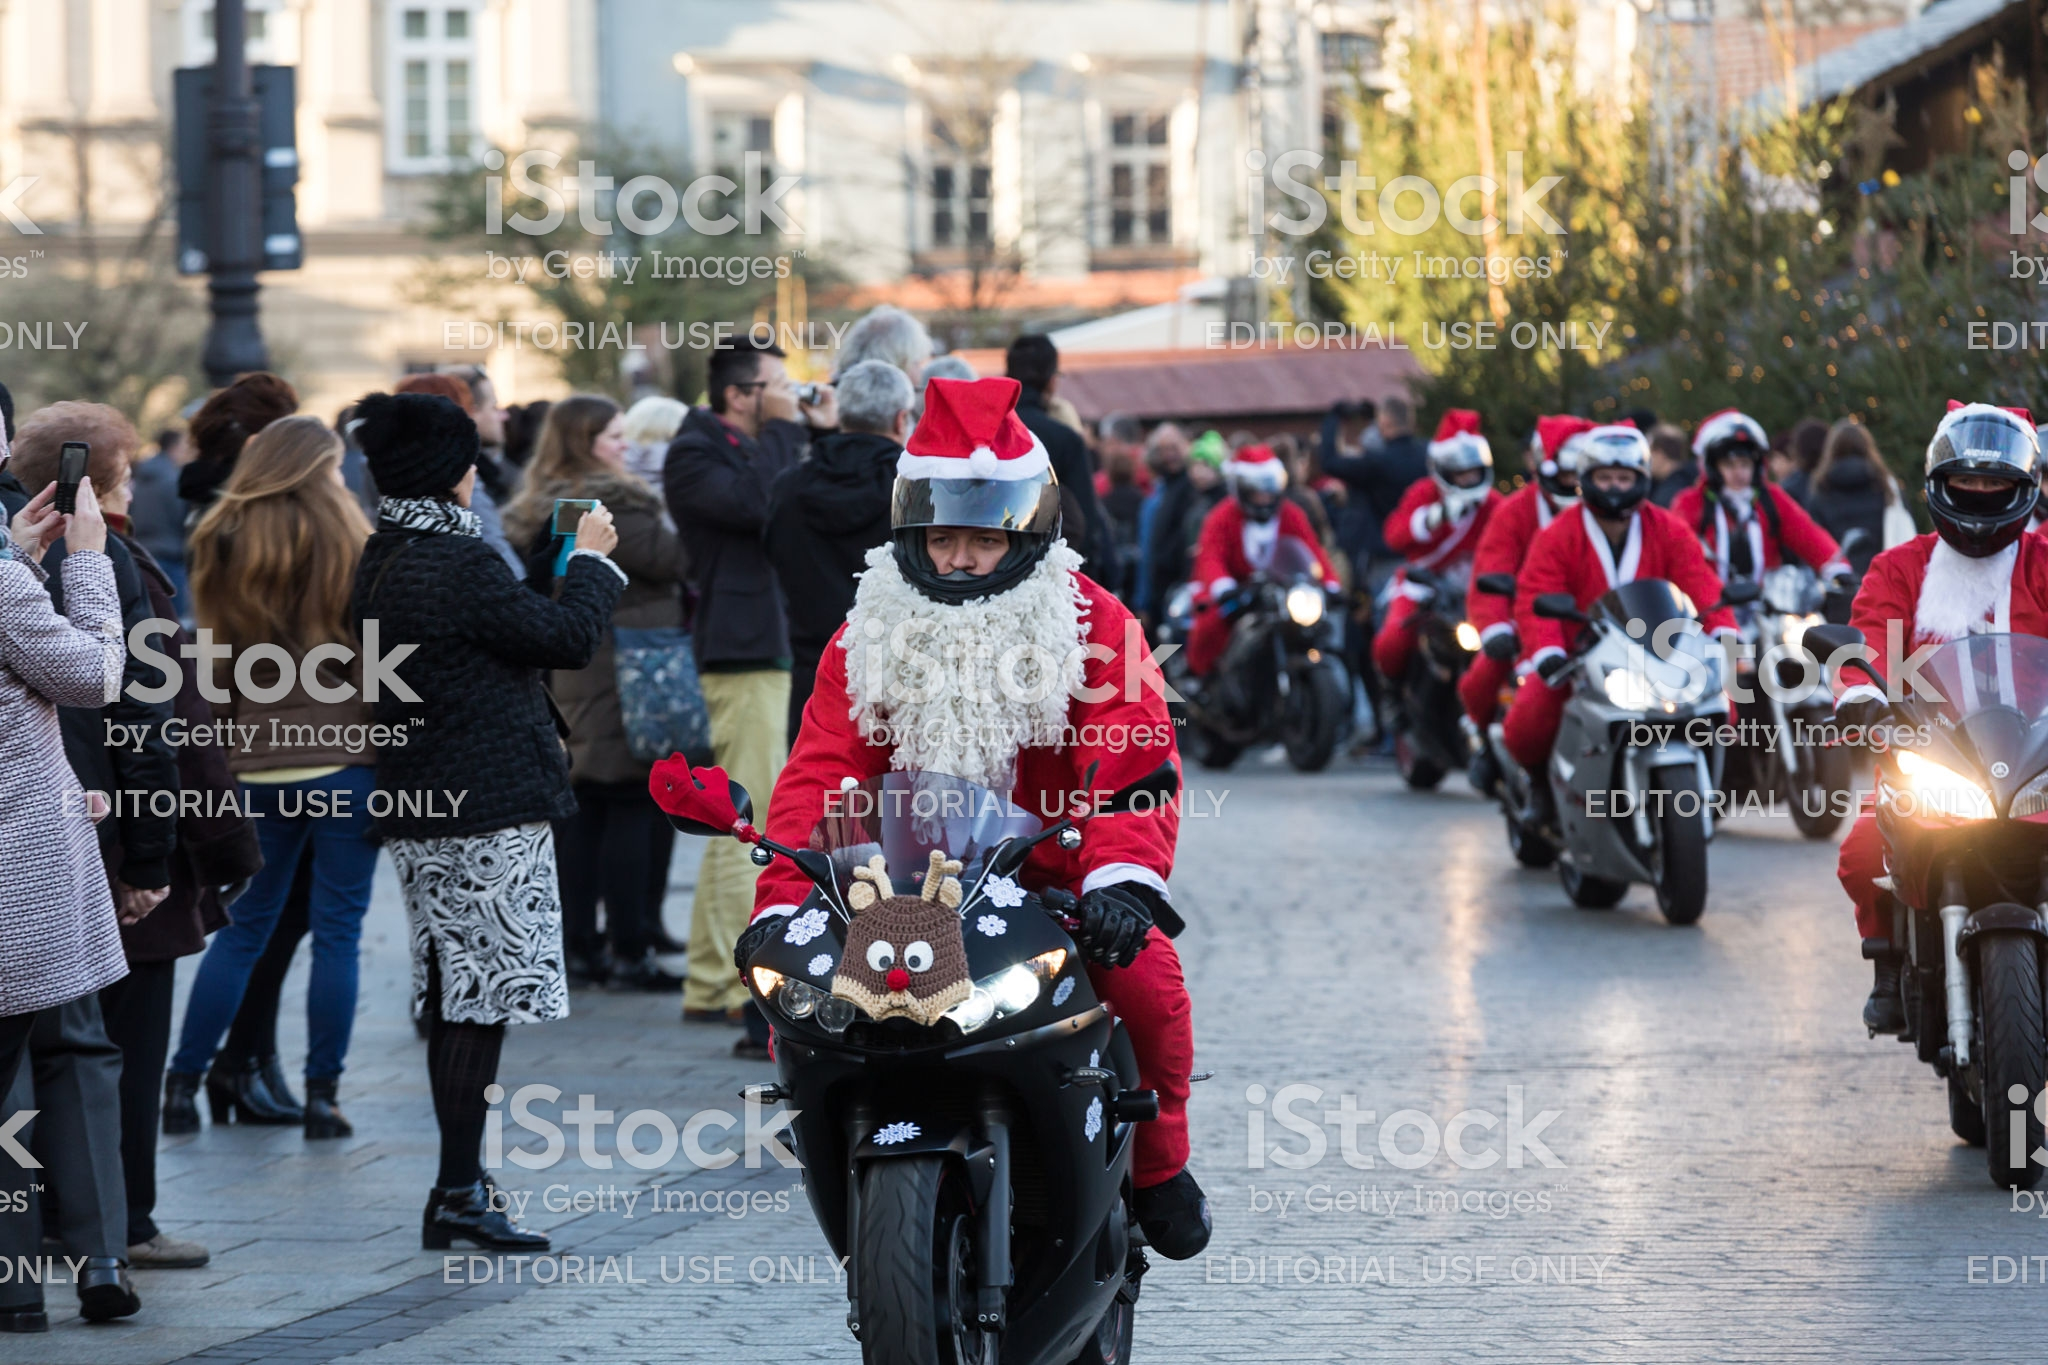helmet: (877, 401, 1075, 612), (1922, 390, 2043, 539), (1573, 431, 1667, 527)
